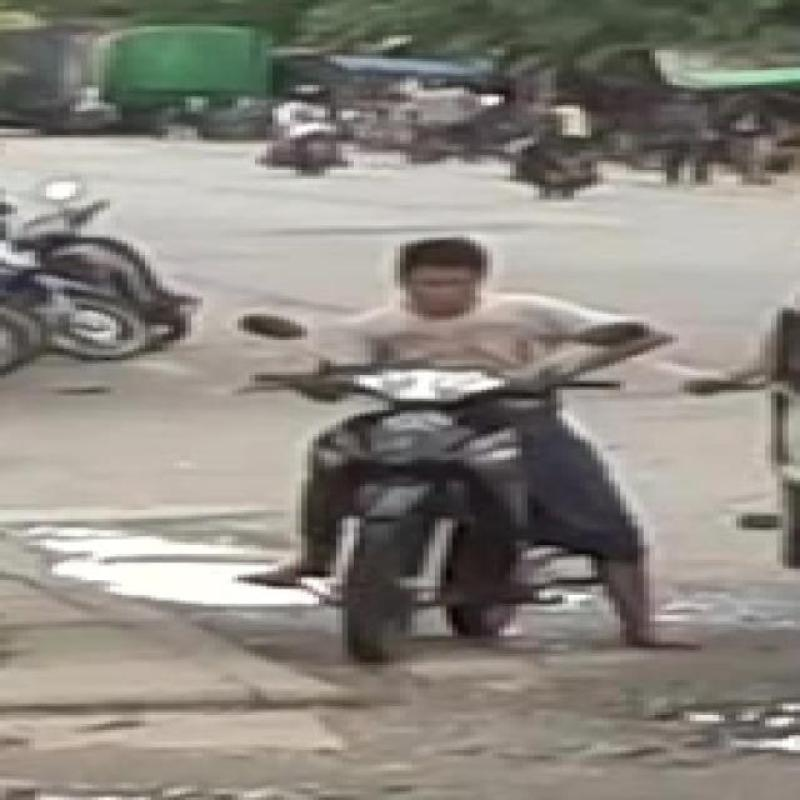nohelmet: (357, 226, 524, 326)
